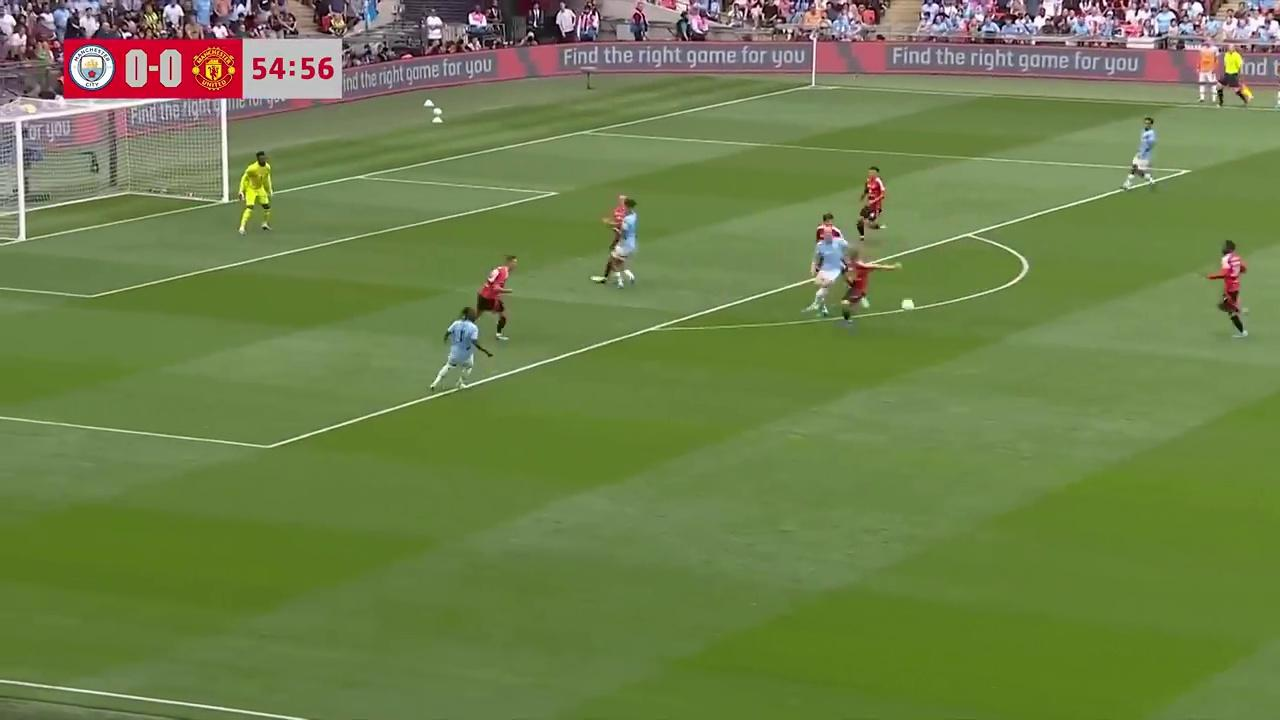ball: (900, 295, 915, 313)
player: (429, 308, 489, 390), (1206, 240, 1249, 337), (802, 225, 845, 318), (809, 213, 848, 313), (474, 254, 516, 345), (593, 207, 637, 288), (237, 150, 273, 235), (602, 195, 638, 277), (838, 247, 873, 328), (1125, 117, 1158, 189), (857, 166, 886, 239)
referee: (1215, 50, 1252, 109)
